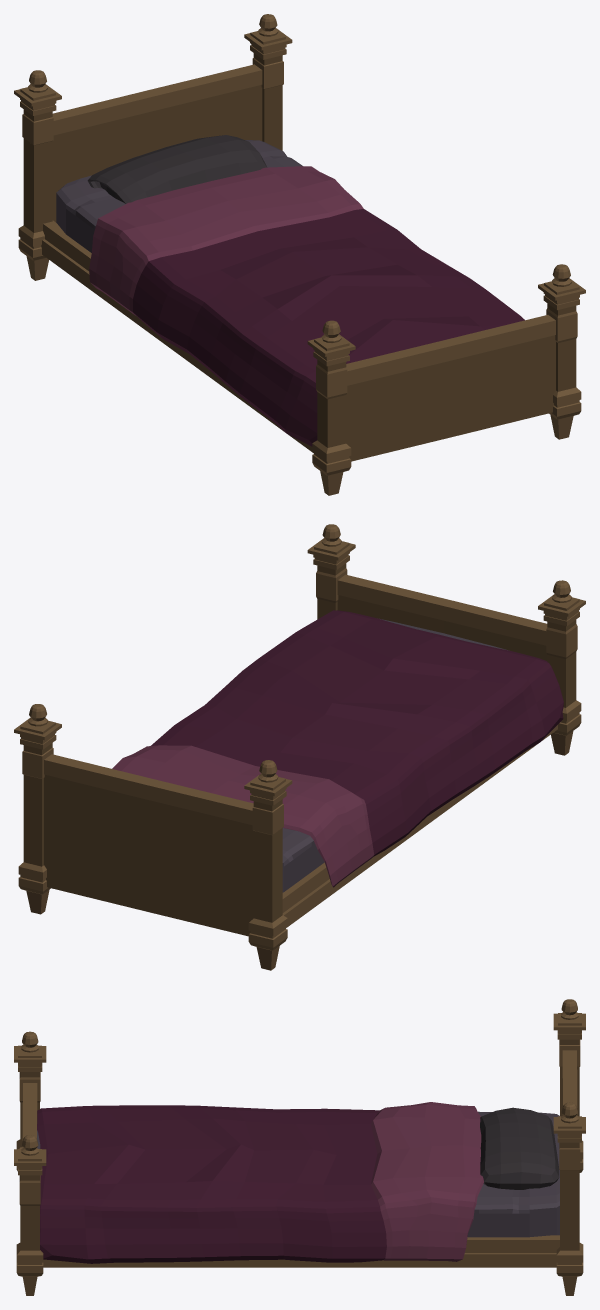
Rendered from BedTwin.glb.
3 views of the same model, one above another, from view 1: azimuth 30°, elevation 25°; view 2: azimuth 150°, elevation 25°; view 3: azimuth 270°, elevation 25° (orthographic). The views are drawn at different scales.
Parts seen in each view (by area): view 1: BedTwin; view 2: BedTwin; view 3: BedTwin.
Boxes of the visible parts, box(x1,y1,x2,y2) form: BedTwin: box(14, 14, 585, 495); BedTwin: box(14, 524, 585, 970); BedTwin: box(14, 999, 585, 1295).
Bounding box in the file's own units: 2.06 × 1.56 × 4.26.
